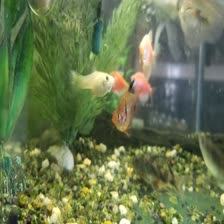Guppy: (64, 65, 112, 100)
Kiros: (122, 144, 182, 193)
Transparente: (109, 82, 144, 135)
